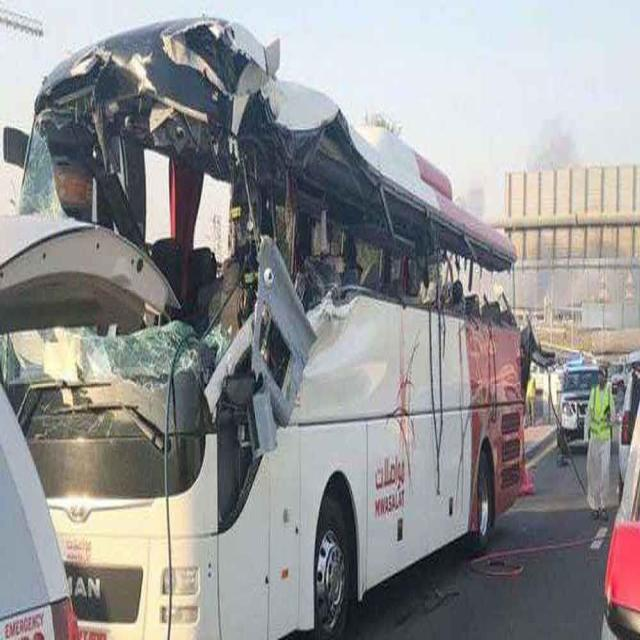accident: (0, 19, 544, 638)
